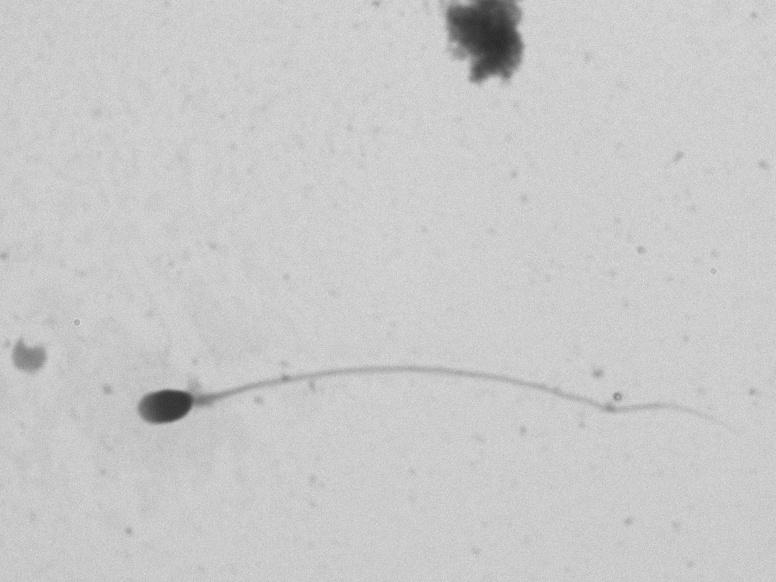Normal: (115, 333, 754, 501)
